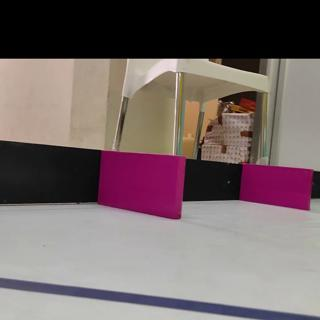xparking: (103, 156, 182, 212), (246, 169, 311, 209)
